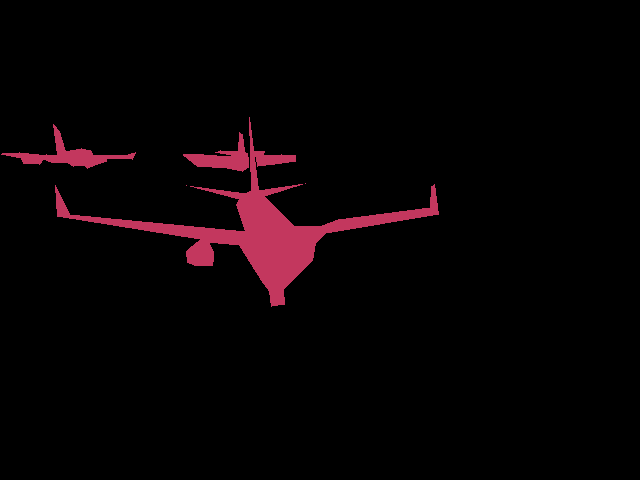Airplane: (55, 117, 438, 306), (1, 124, 136, 169), (183, 132, 295, 172)
